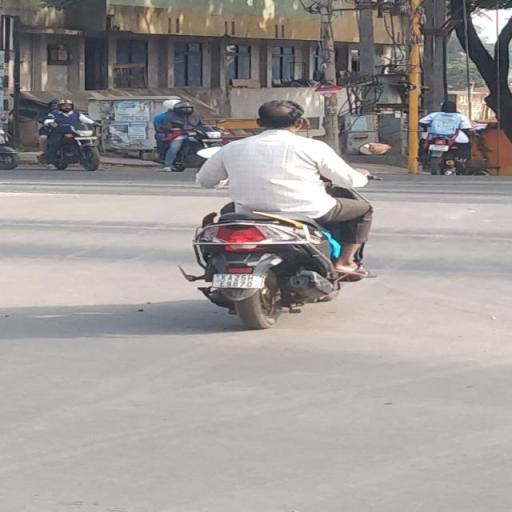bike: (177, 96, 381, 330)
numberplate: (211, 272, 261, 288)
withouthelmet: (258, 101, 302, 129)
